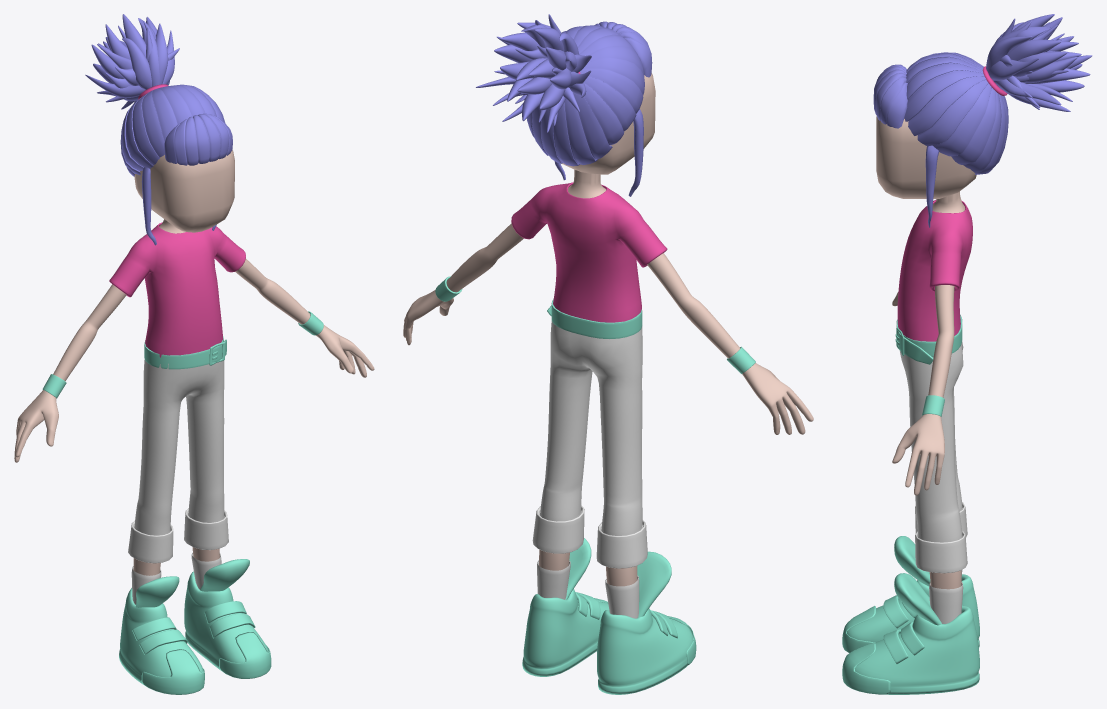
3 renders of one model, left to right at view 1: azimuth 30°, elevation 25°; view 2: azimuth 150°, elevation 25°; view 3: azimuth 270°, elevation 25°, orthographic. The views are drawn at different scales.
Visible parts, largest first — view 1: uploads_files_4001157_toma.005; view 2: uploads_files_4001157_toma.005; view 3: uploads_files_4001157_toma.005.
Boxes of the visible parts, bbox=[...] form: uploads_files_4001157_toma.005: bbox=[14, 14, 374, 694]; uploads_files_4001157_toma.005: bbox=[403, 14, 813, 694]; uploads_files_4001157_toma.005: bbox=[842, 14, 1092, 694].
Size of the model in its own units: 706 by 1131 by 396.
